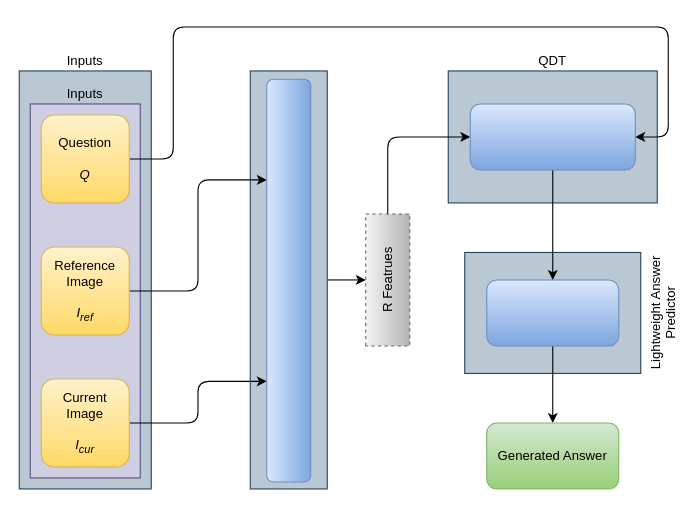
The diagram is 700 pixels wide and 508 high, and some of its shapes have lost their labels. The box of each missing label's shape, as (x1, y1, x2, y2) in pixels:
Cross-Attention Block: (469, 103, 635, 170)
Directonal Residual Stack: (266, 78, 311, 482)
DRS: (249, 70, 327, 489)
Frozen LM: (486, 279, 619, 346)
